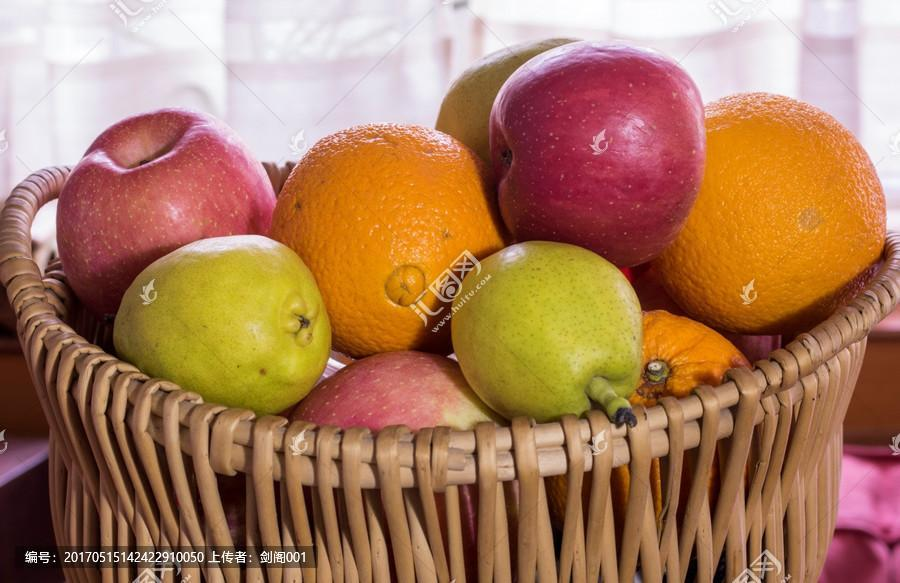apple: (512, 39, 727, 270), (56, 113, 275, 325), (280, 348, 505, 435)
